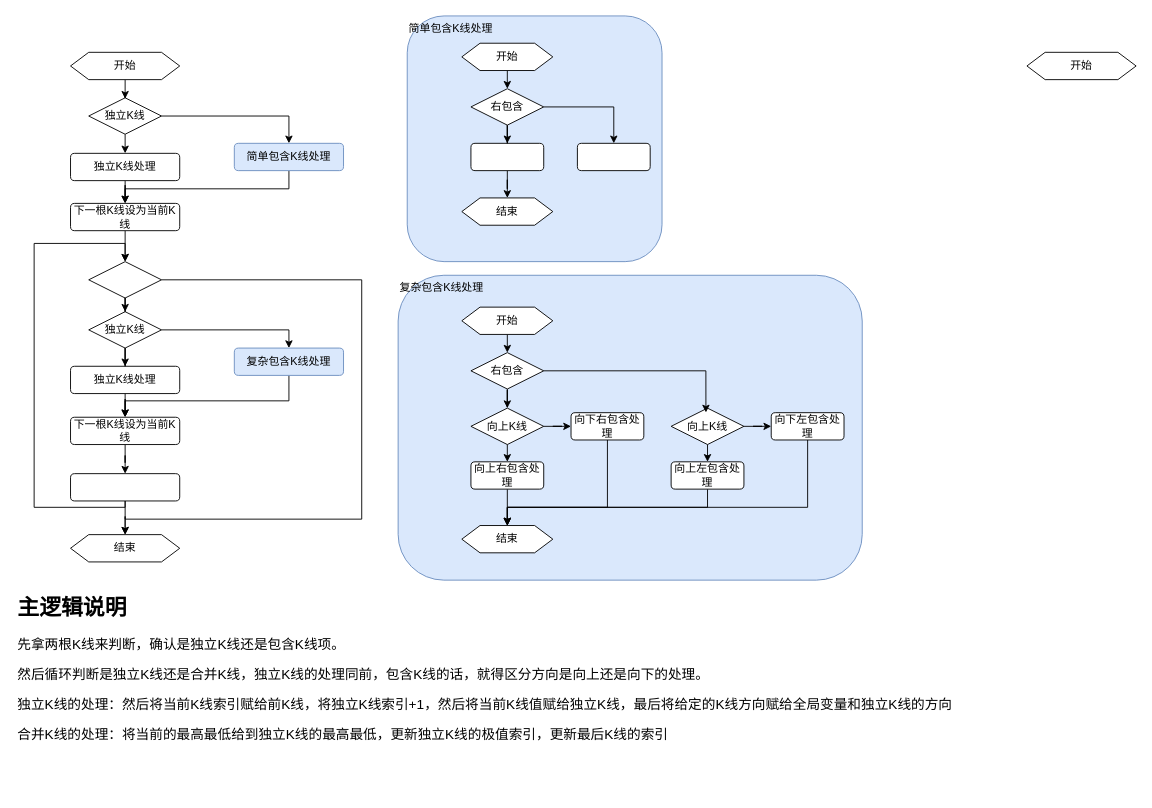
Some shapes in this 1152 by 808 pixel diagram are drawn without their labels. The shapes that lost their labels are listed below. From the top down, each one's centre as x and y in pixels, then its label:
the point at 507,156: 右包含处理
the point at 613,156: 左包含处理
the point at 125,279: 不是最后一根
the point at 125,487: 做结束判断
